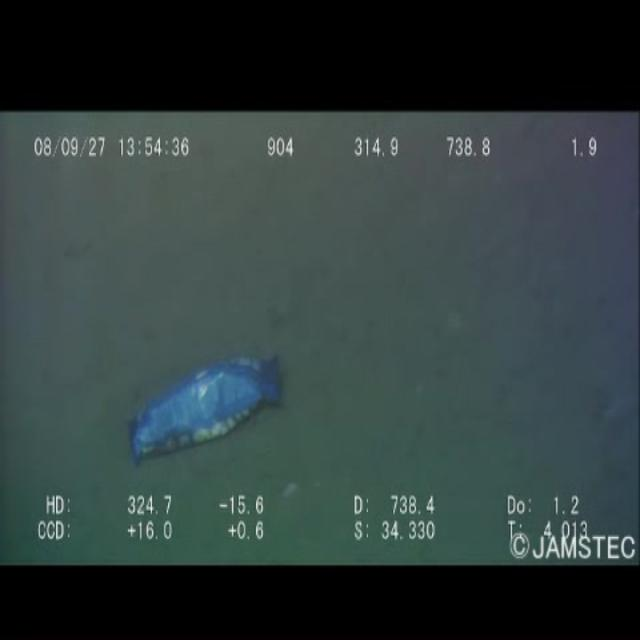Litter: (115, 337, 292, 461)
